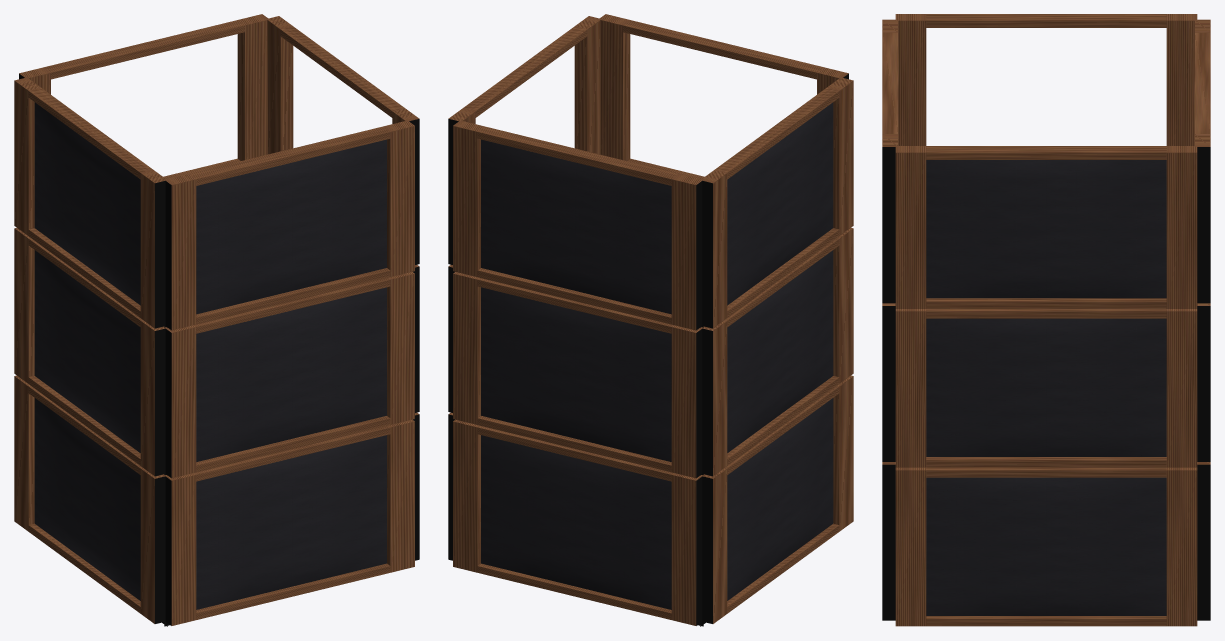
File: bass-trap.glb
3 views of the same model, side by side, from view 1: azimuth 30°, elevation 25°; view 2: azimuth 150°, elevation 25°; view 3: azimuth 270°, elevation 25° (orthographic). The views are drawn at different scales.
Visible parts, largest first — view 1: basstrap; view 2: basstrap; view 3: basstrap.
Part boxes in pixels (x1,y1,x2,y2): basstrap: [14, 14, 419, 626]; basstrap: [448, 14, 853, 626]; basstrap: [882, 14, 1210, 626].
Bounding box in the file's own units: 0.62 × 1 × 0.62.
Materials: 2 (2 with a texture image).
